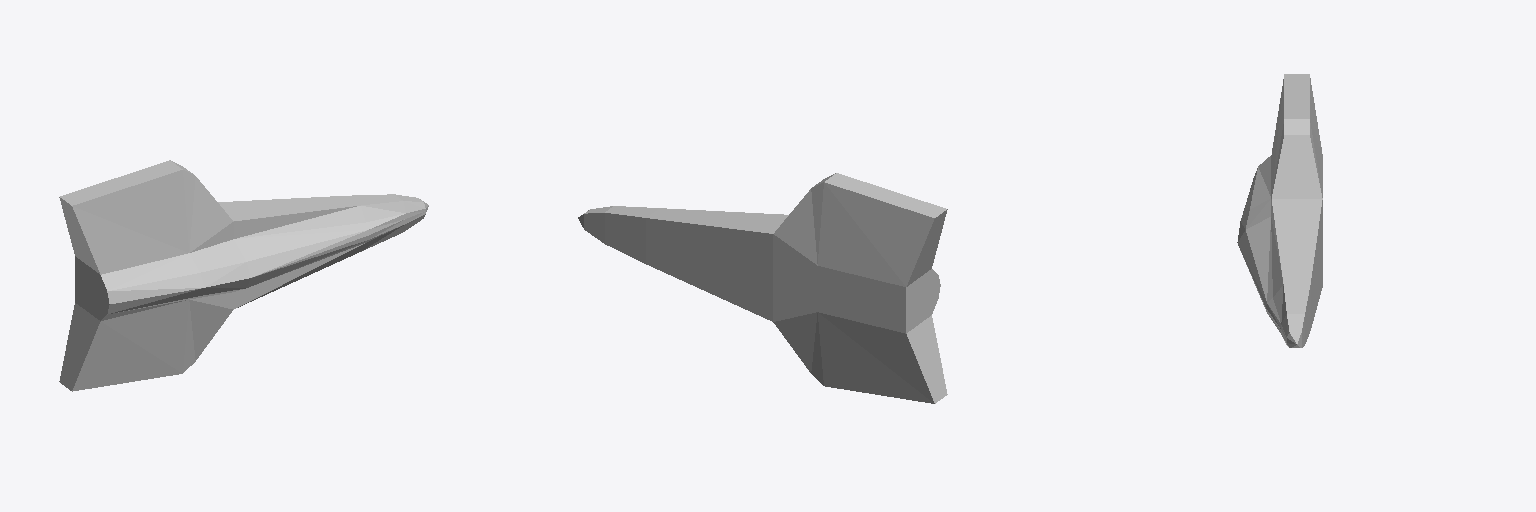
The model's file is chest.obj.
3 views of the same model, side by side, from view 1: azimuth 30°, elevation 25°; view 2: azimuth 150°, elevation 25°; view 3: azimuth 270°, elevation 25° (orthographic).
Visible parts, largest first — view 1: cube1; view 2: cube1; view 3: cube1.
Boxes of the visible parts, box(x1,y1,x2,y2) form: cube1: box(59, 160, 428, 391); cube1: box(578, 173, 947, 403); cube1: box(1237, 74, 1322, 347).
Size of the model in its own units: 0.82 by 0.44 by 0.1667.